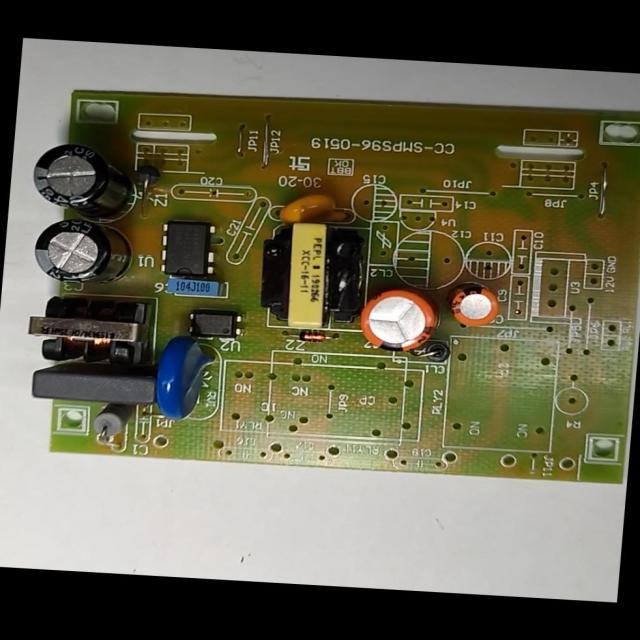Cap1: (355, 285, 439, 353)
Cap2: (449, 286, 502, 328)
Cap3: (29, 215, 135, 285)
Cap4: (27, 138, 145, 224)
MOSFET: (153, 218, 220, 280)
Mov: (152, 331, 218, 424)
Resistor: (88, 398, 137, 440)
Transformer: (253, 219, 374, 335), (20, 292, 162, 370)
